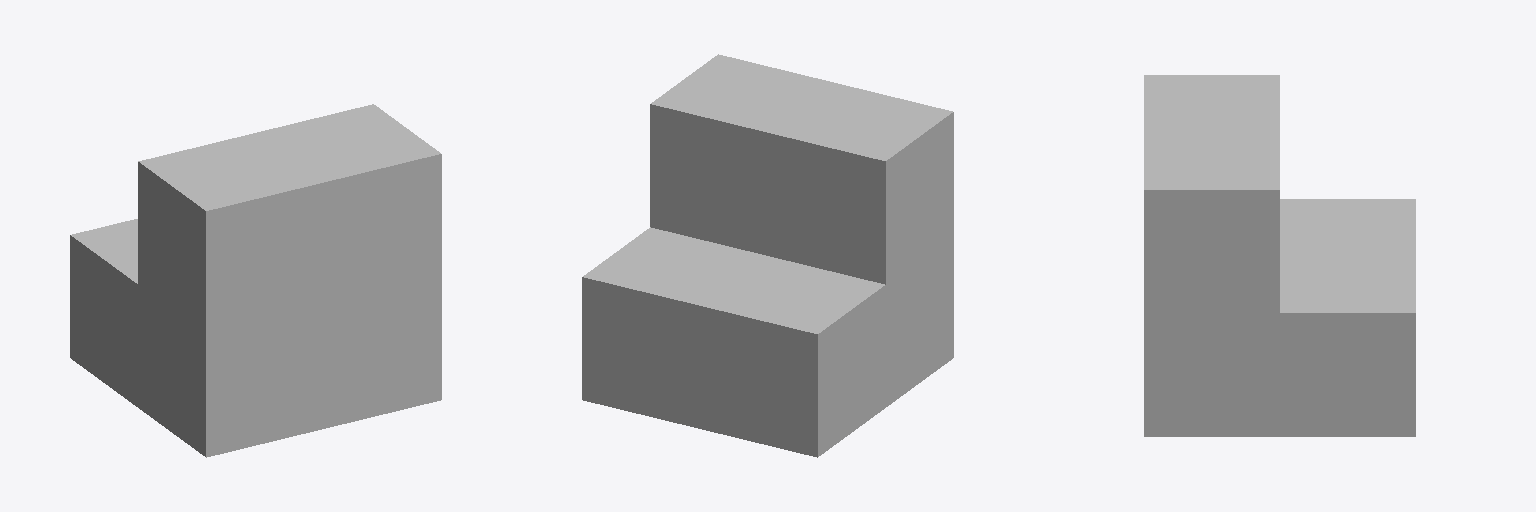
Rendered from stairs.obj.
The picture shows the model from 3 angles: view 1: azimuth 30°, elevation 25°; view 2: azimuth 150°, elevation 25°; view 3: azimuth 270°, elevation 25°; orthographic projection.
Visible parts, largest first — view 1: Cube; view 2: Cube; view 3: Cube.
Boxes of the visible parts, box(x1,y1,x2,y2) form: Cube: box(70, 104, 441, 457); Cube: box(582, 54, 953, 457); Cube: box(1144, 75, 1415, 436).
Bounding box in the file's own units: 2 × 2 × 2.